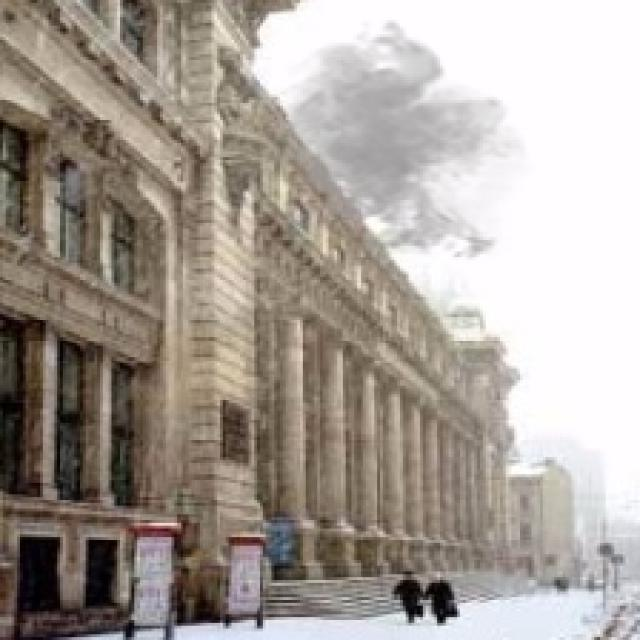Smoke: (272, 17, 534, 266)
